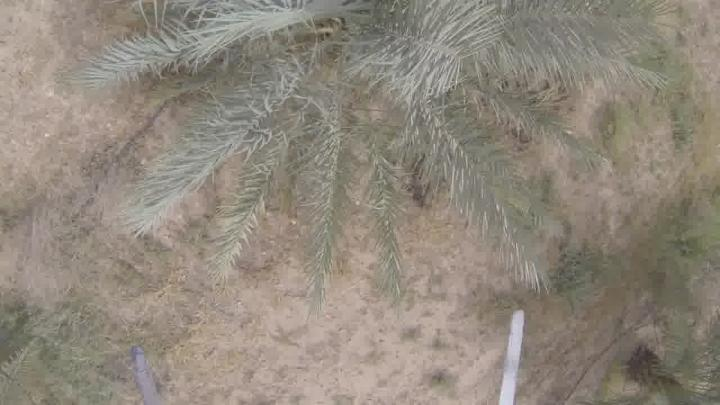Date-Palm-Crown: (191, 0, 494, 174)
